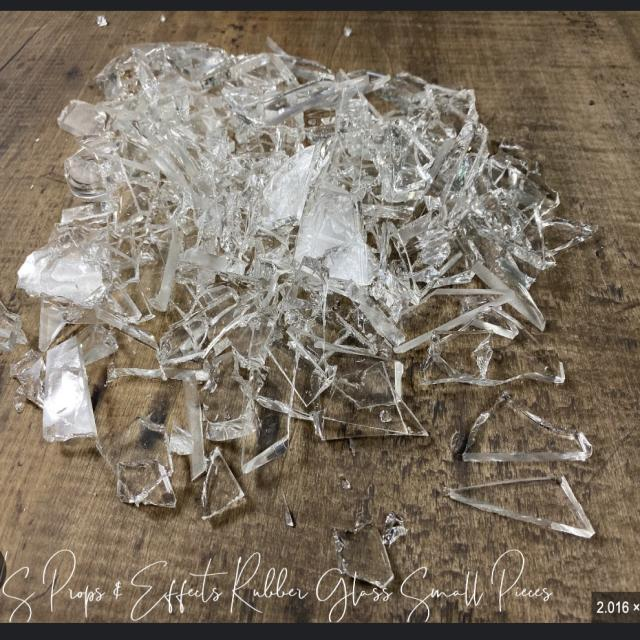PecahanKaca: (9, 38, 596, 533)
